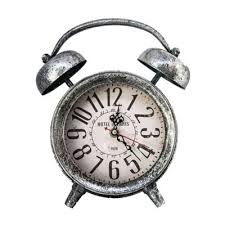alarm_clock: (34, 17, 194, 205)
